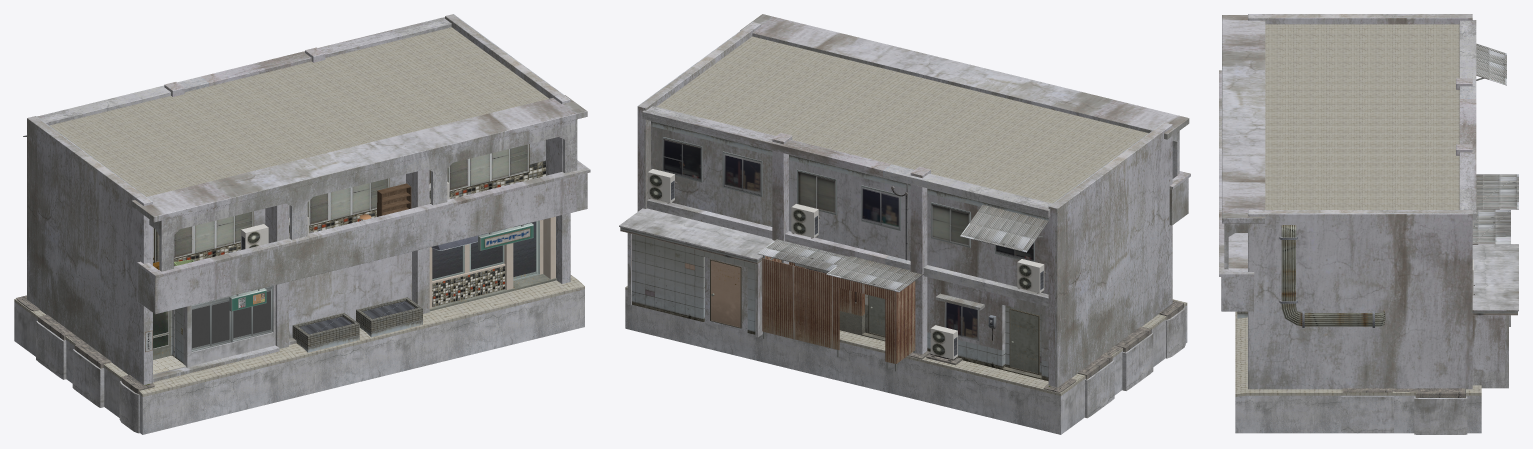
Rendered from tri_shop_2.fbx.
The picture shows the model from 3 angles, left to right: view 1: azimuth 30°, elevation 25°; view 2: azimuth 150°, elevation 25°; view 3: azimuth 270°, elevation 25°; orthographic projection. The views are drawn at different scales.
Parts seen in each view (by area): view 1: tri_shop_2; view 2: tri_shop_2; view 3: tri_shop_2.
Part boxes in pixels (box(x1,y1,x2,y2)): tri_shop_2: box(14, 14, 590, 434); tri_shop_2: box(619, 14, 1190, 434); tri_shop_2: box(1219, 14, 1518, 434).
Bounding box in the file's own units: 1895 × 1135 × 902.
11 materials, 11 textured.
